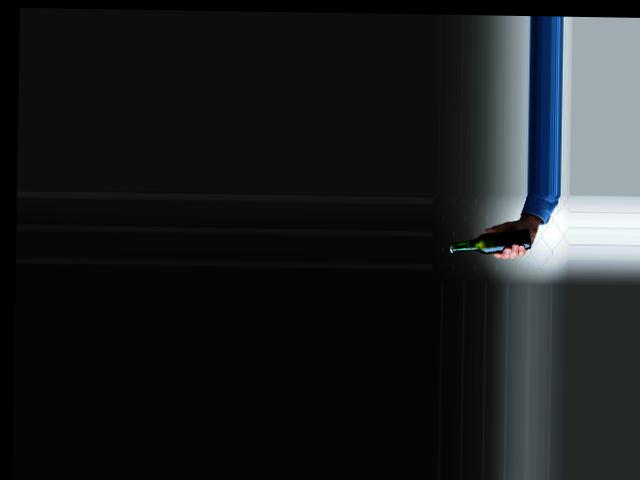beer: (448, 226, 531, 254)
